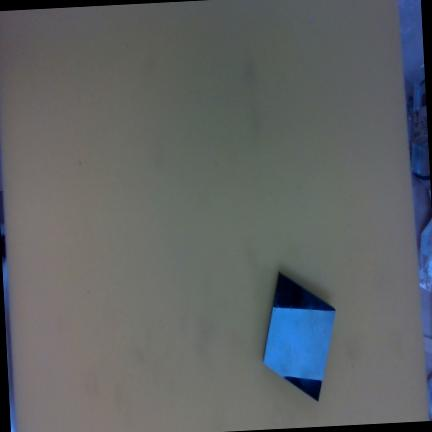tile: (256, 273, 342, 402)
